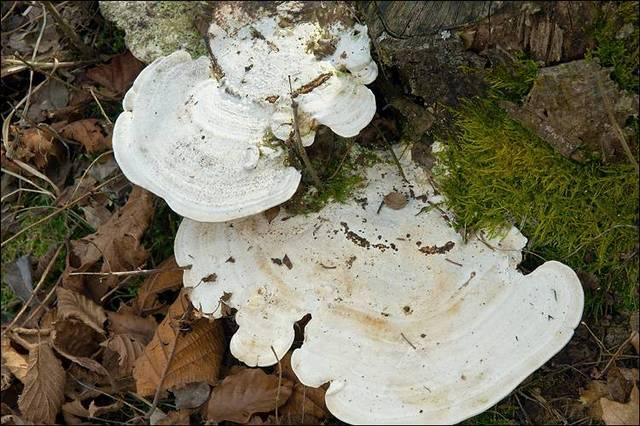Non-edible Mushroom: (178, 113, 587, 426), (110, 48, 302, 223), (181, 0, 387, 127)
